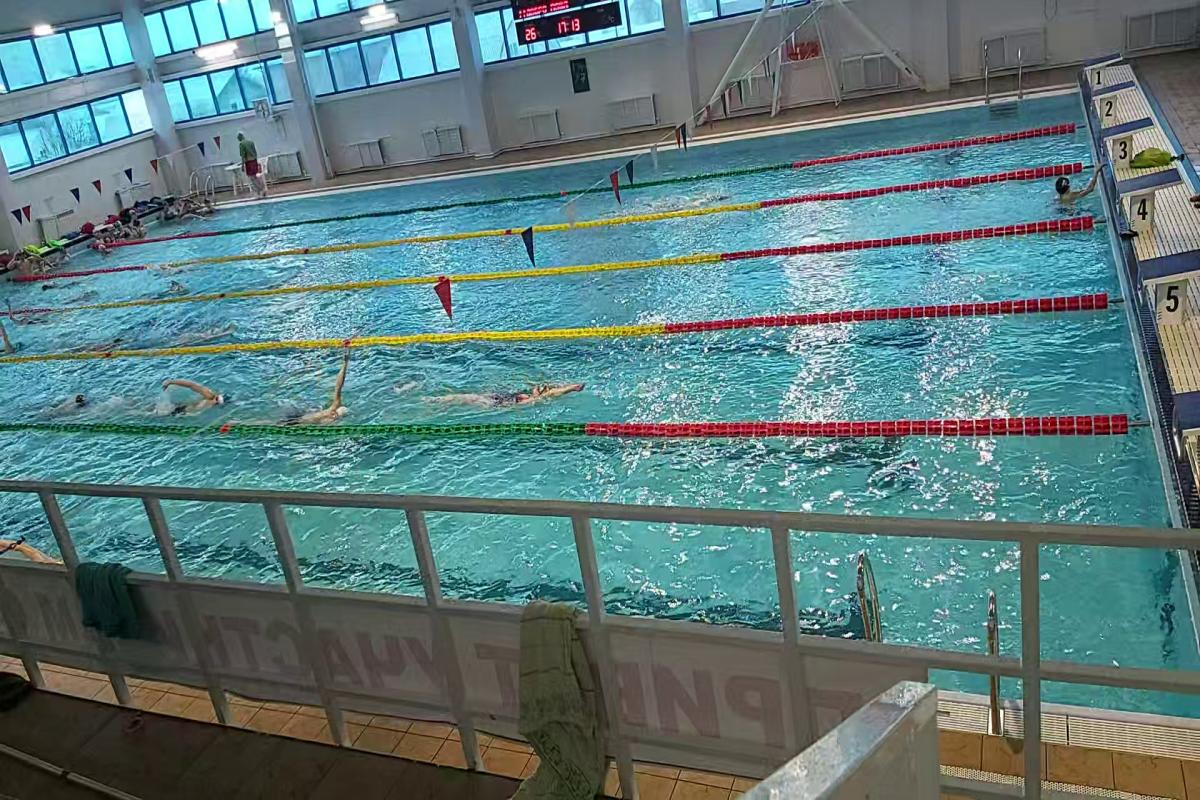swimmer: (432, 370, 590, 418), (270, 367, 360, 422), (142, 372, 232, 420), (1048, 168, 1097, 216)
